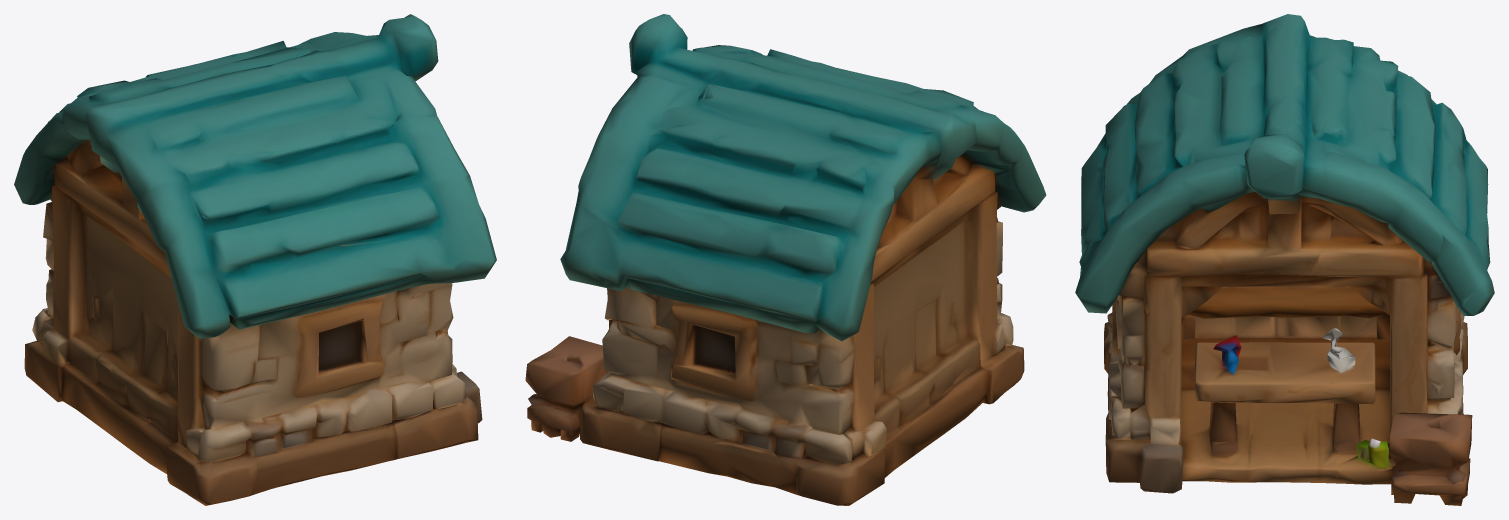
Rendered from textures.glb.
The picture shows the model from 3 angles, left to right: view 1: azimuth 30°, elevation 25°; view 2: azimuth 150°, elevation 25°; view 3: azimuth 270°, elevation 25°; orthographic projection.
Parts seen in each view (by area): view 1: tripo_node_931942d1-f4fd-467e-8309-22a5baf627c1; view 2: tripo_node_931942d1-f4fd-467e-8309-22a5baf627c1; view 3: tripo_node_931942d1-f4fd-467e-8309-22a5baf627c1.
Part boxes in pixels (x1,y1,x2,y2): tripo_node_931942d1-f4fd-467e-8309-22a5baf627c1: (14,14,496,505); tripo_node_931942d1-f4fd-467e-8309-22a5baf627c1: (525,14,1046,505); tripo_node_931942d1-f4fd-467e-8309-22a5baf627c1: (1075,14,1494,505).
Bounding box in the file's own units: 0.9508 × 0.9238 × 1.
Materials: 1 (1 with a texture image).
